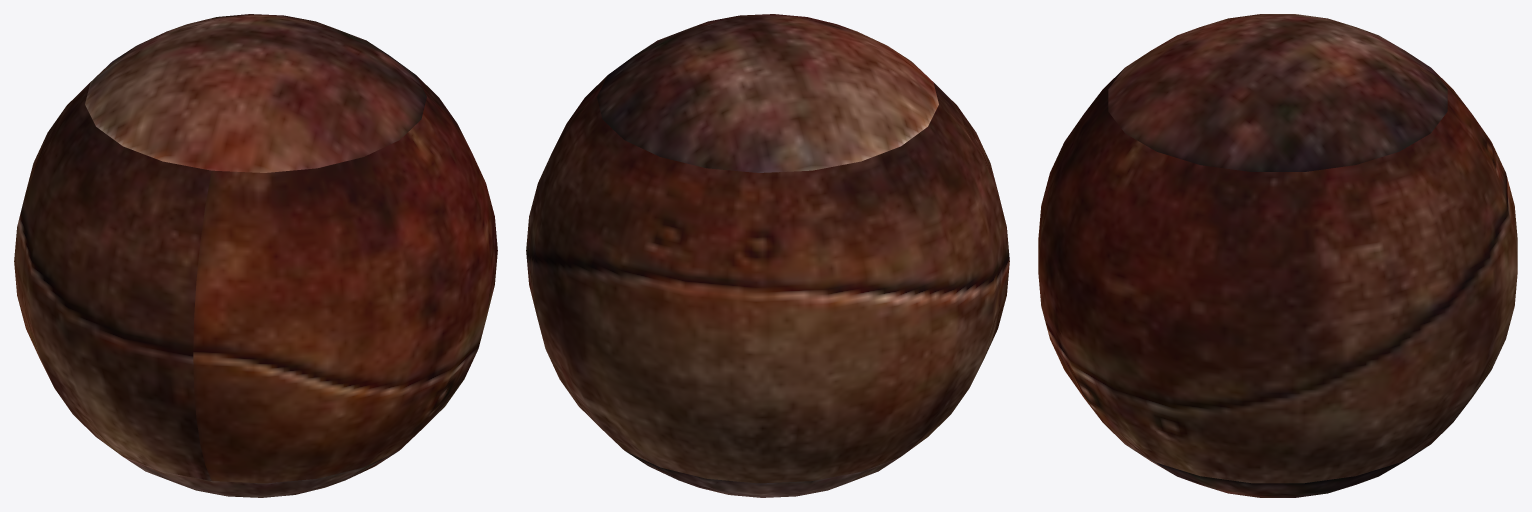
Rendered from q_bludger_webp.glb.
3 views of the same model, side by side, from view 1: azimuth 30°, elevation 25°; view 2: azimuth 150°, elevation 25°; view 3: azimuth 270°, elevation 25° (orthographic).
Parts seen in each view (by area): view 1: Bludger_01; view 2: Bludger_01; view 3: Bludger_01.
Boxes of the visible parts, x1=… form: Bludger_01: x1=14, y1=14, x2=497, y2=497; Bludger_01: x1=526, y1=14, x2=1009, y2=497; Bludger_01: x1=1038, y1=14, x2=1517, y2=497.
Bounding box in the file's own units: 0.2469 × 0.25 × 0.2469.
Materials: 1 (1 with a texture image).
